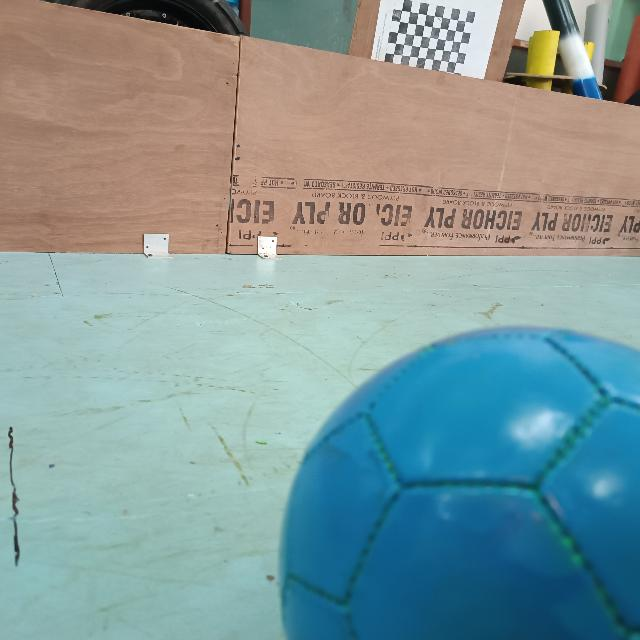B: (272, 322, 640, 640)
